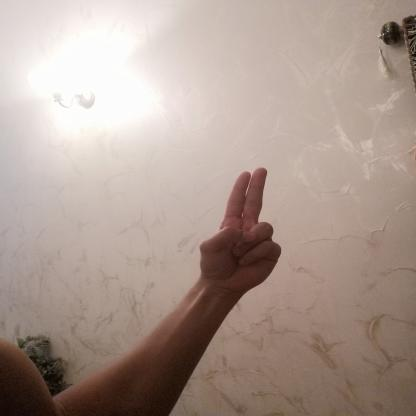TA: (184, 158, 291, 300)
